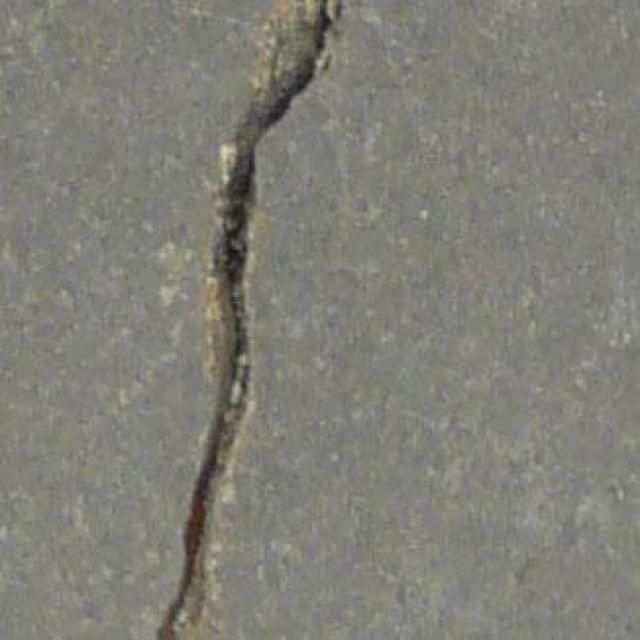vertical crack: (151, 0, 344, 638)
